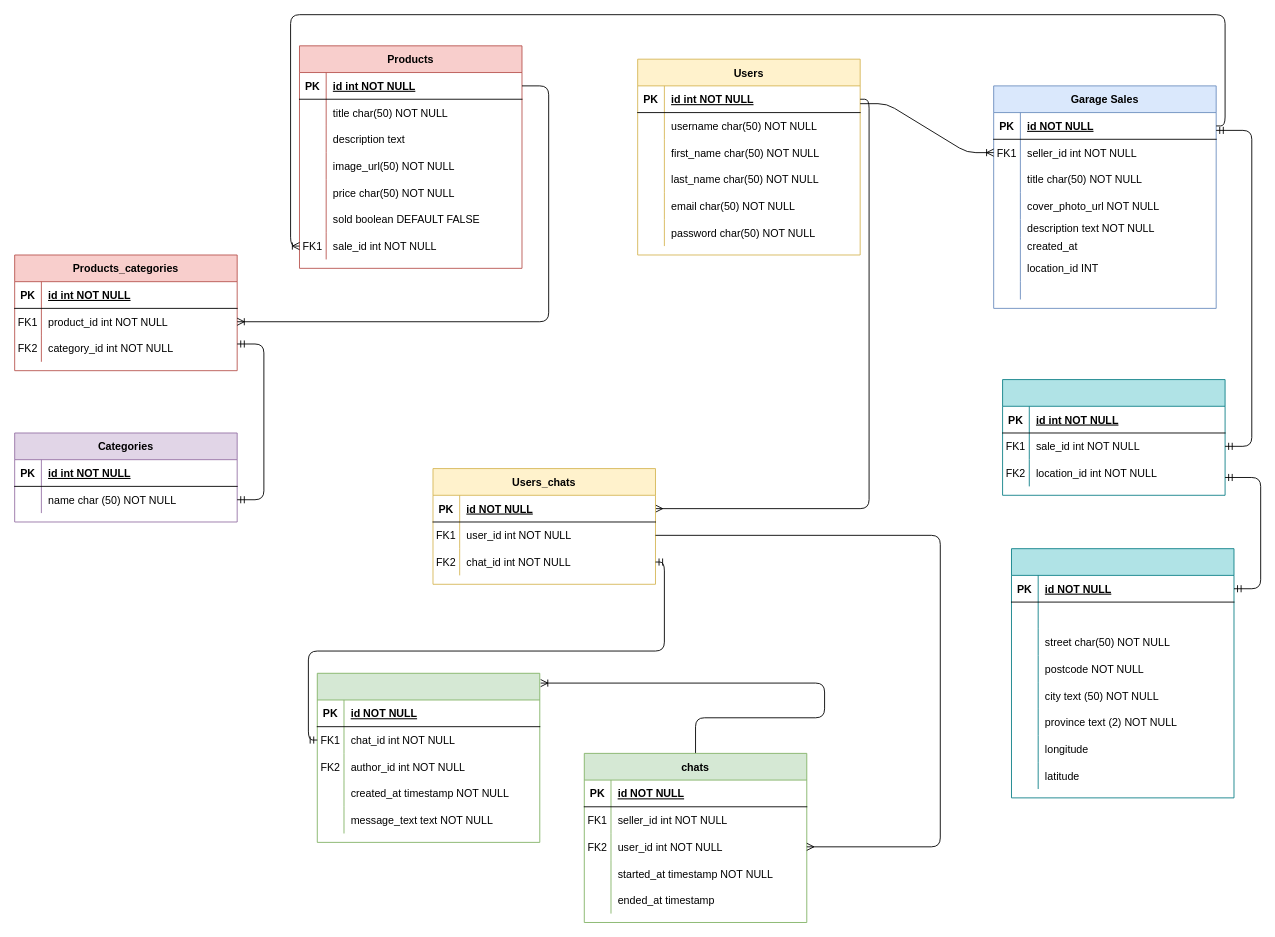
The diagram is 1275 pixels wide and 937 high, and some of its shapes have lost their labels. Here are the shapes that lost their labels. From the top down, the box of each, then its label:
(1002, 379, 1225, 495): sales_locations
(1011, 548, 1234, 798): locations
(316, 672, 540, 842): chat_messages
